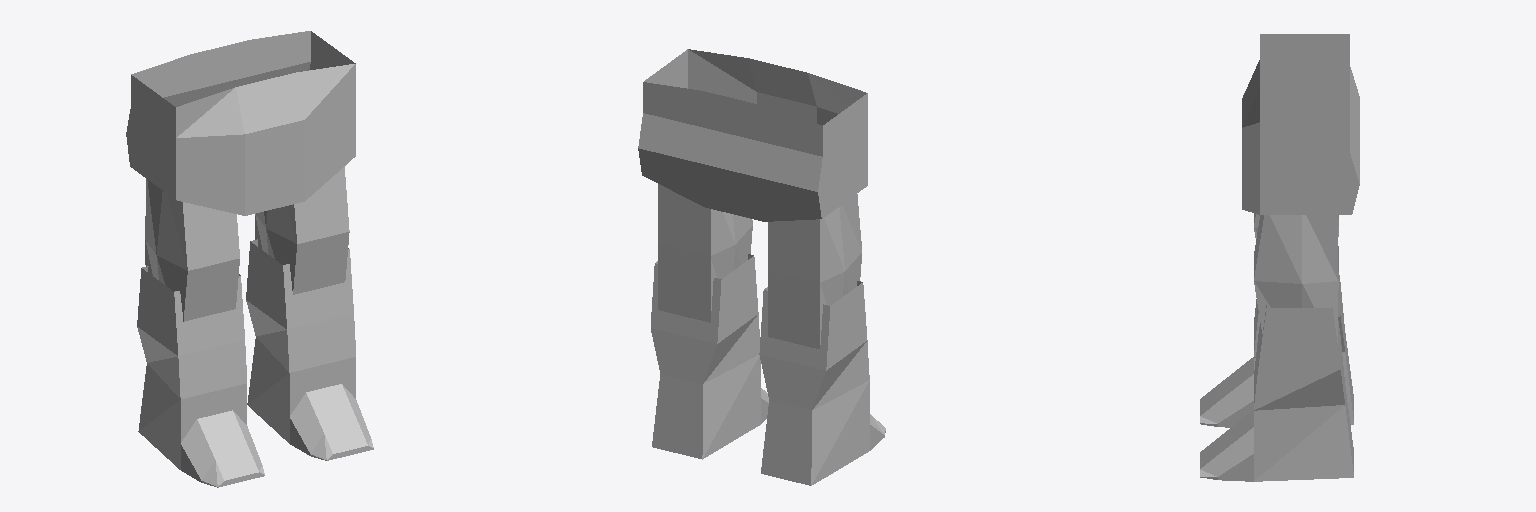
Rendered from mdl_body_lower.obj.
The picture shows the model from 3 angles: view 1: azimuth 30°, elevation 25°; view 2: azimuth 150°, elevation 25°; view 3: azimuth 270°, elevation 25°; orthographic projection.
Visible parts, largest first — view 1: Box001, Box005, Box004, Box002, Box006; view 2: Box001, Box004, Box005, Box002, Box006; view 3: Box001, Box005, Box006, Box004.
Part boxes in pixels (bbox=[...]): Box001: bbox=[126, 31, 355, 215]; Box005: bbox=[246, 239, 373, 460]; Box004: bbox=[137, 266, 264, 487]; Box002: bbox=[145, 179, 239, 321]; Box006: bbox=[255, 166, 349, 294]; Box001: bbox=[638, 49, 867, 221]; Box004: bbox=[759, 281, 885, 485]; Box005: bbox=[651, 254, 768, 459]; Box002: bbox=[768, 194, 861, 348]; Box006: bbox=[658, 184, 752, 322]; Box001: bbox=[1242, 34, 1359, 214]; Box005: bbox=[1200, 305, 1353, 481]; Box006: bbox=[1254, 215, 1338, 342]; Box004: bbox=[1200, 275, 1353, 427].
Bounding box in the file's own units: 26.26 × 51.19 × 20.21.